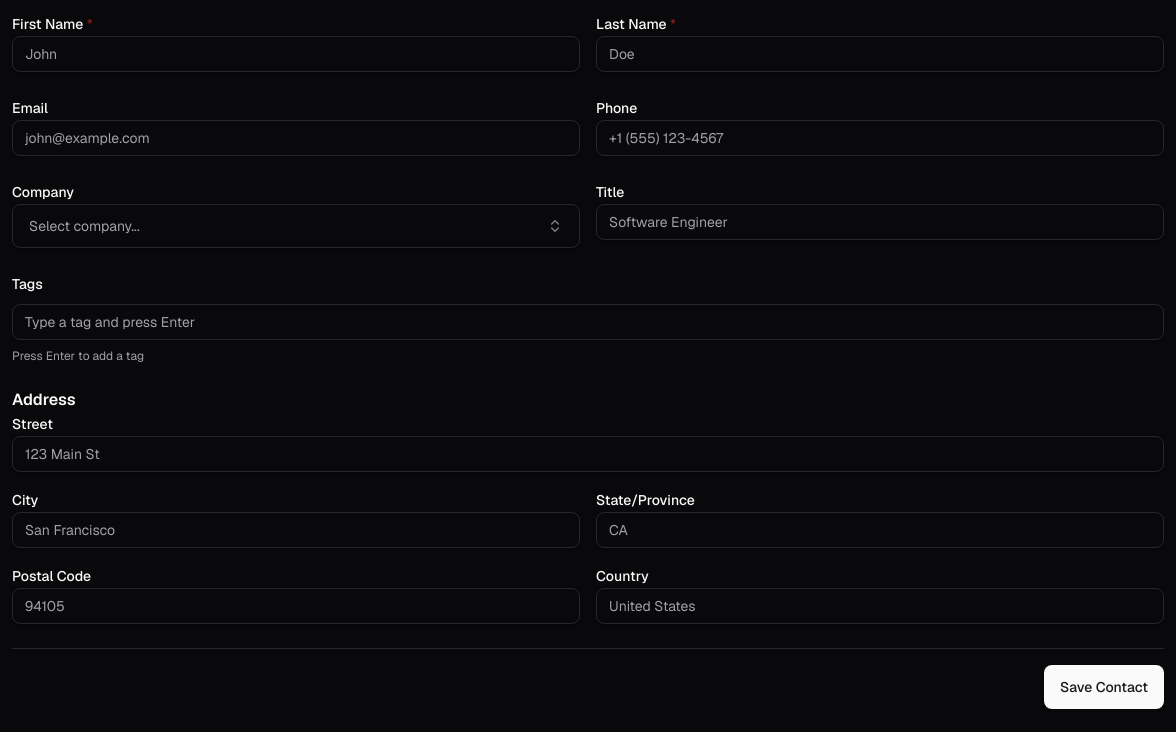
Test: ContactForm › User Interactions › adds tag on Enter key
Step 1. Type "newtag" into the field with placeholder "Type a tag and press Enter" → (588, 322), box top-left (12, 304), bottom-right (1164, 340)
Then press Enter
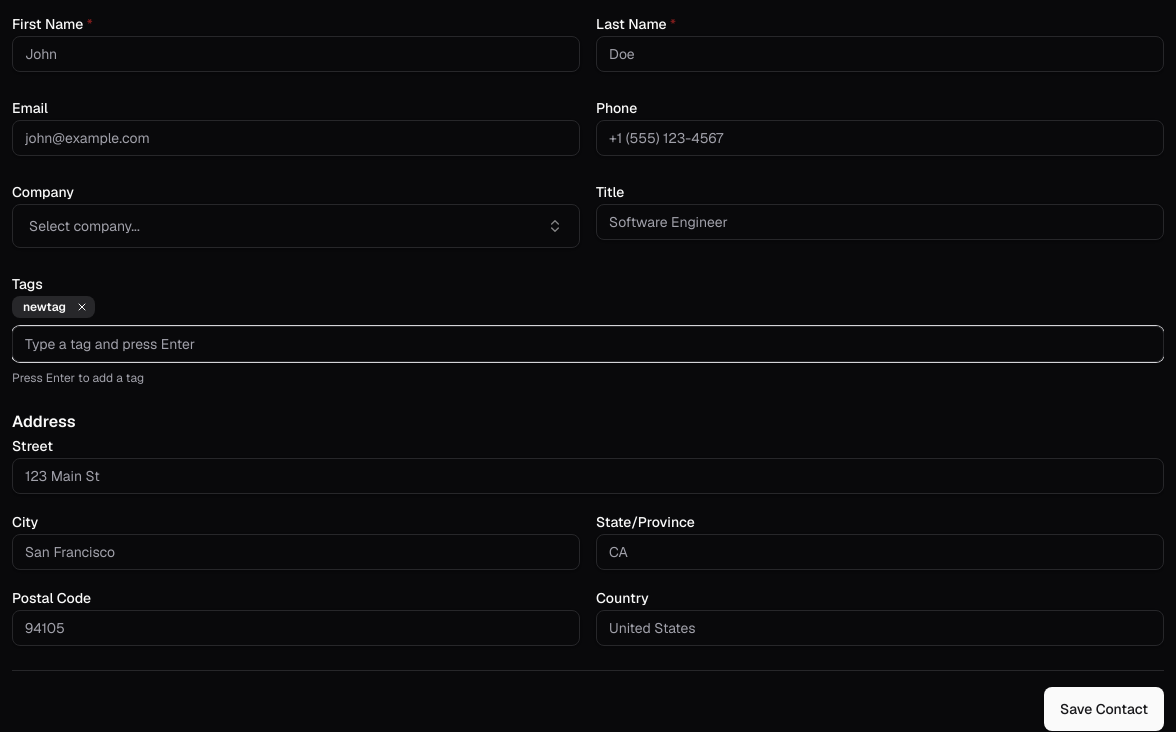
Result: the text "newtag" is shown at top-left (12, 296), bottom-right (95, 318)
